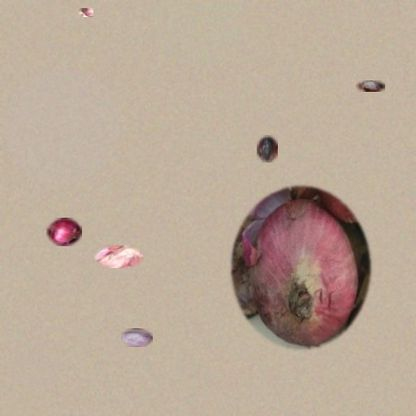damaged: (121, 328, 153, 347)
healthy: (227, 180, 375, 354), (46, 218, 82, 246)
rotten: (94, 245, 143, 268), (257, 135, 278, 162), (356, 80, 385, 92)
sprouted: (79, 8, 93, 17)
